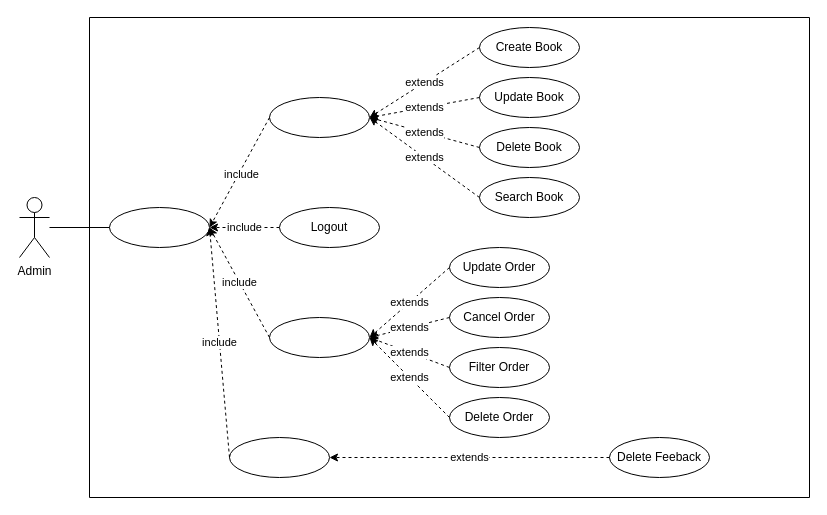
This 827x515 diagram has some shape labels left out. The centre of each missing label's shape, as x and y in pixels:
"Login" belongs at point 159,227.
"View Book" belongs at point 319,117.
"View Feedback" belongs at point 279,457.
"View Order" belongs at point 319,337.
